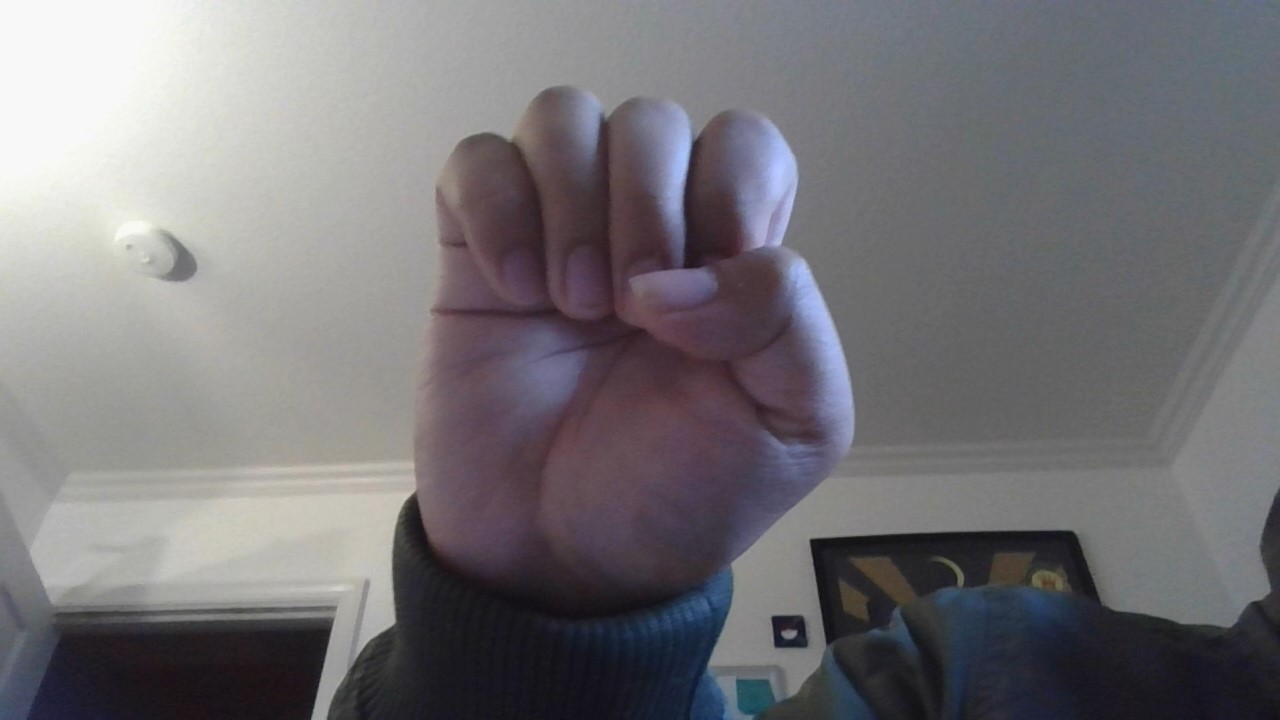e: (348, 73, 885, 617)
